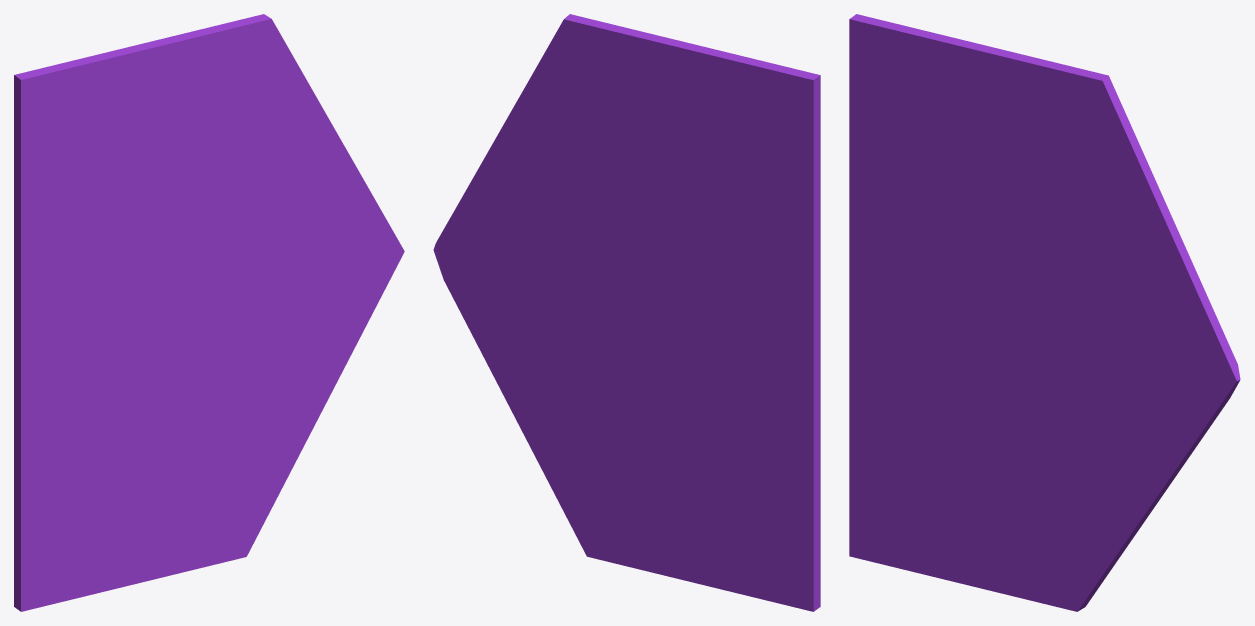
The model's file is Glass_95_2_chunks.fbx.
The picture shows the model from 3 angles, left to right: view 1: azimuth 30°, elevation 25°; view 2: azimuth 150°, elevation 25°; view 3: azimuth 330°, elevation 25°; orthographic projection.
Visible parts, largest first — view 1: Glass_95_2_2, Glass_95_2_3, Glass_95_2_8, Glass_95_2_10, Glass_95_2_18, Glass_95_2_1, Glass_95_2_9, Glass_95_2_7, Glass_95_2_6, Glass_95_2_12, Glass_95_2_11, Glass_95_2_16 (+6 smaller); view 2: Glass_95_2_2, Glass_95_2_3, Glass_95_2_8, Glass_95_2_10, Glass_95_2_1, Glass_95_2_18, Glass_95_2_9, Glass_95_2_13, Glass_95_2_0, Glass_95_2_11, Glass_95_2_16, Glass_95_2_6 (+6 smaller); view 3: Glass_95_2_2, Glass_95_2_3, Glass_95_2_8, Glass_95_2_10, Glass_95_2_18, Glass_95_2_1, Glass_95_2_9, Glass_95_2_7, Glass_95_2_12, Glass_95_2_6, Glass_95_2_11, Glass_95_2_16 (+6 smaller).
Boxes of the visible parts, bbox=[...] form: Glass_95_2_2: bbox=[14, 403, 215, 611]; Glass_95_2_3: bbox=[14, 224, 161, 449]; Glass_95_2_8: bbox=[14, 65, 186, 270]; Glass_95_2_10: bbox=[186, 67, 357, 251]; Glass_95_2_18: bbox=[53, 21, 243, 120]; Glass_95_2_1: bbox=[146, 278, 218, 427]; Glass_95_2_9: bbox=[138, 191, 275, 296]; Glass_95_2_7: bbox=[217, 286, 310, 436]; Glass_95_2_6: bbox=[211, 436, 308, 565]; Glass_95_2_12: bbox=[304, 251, 404, 432]; Glass_95_2_11: bbox=[295, 169, 404, 284]; Glass_95_2_16: bbox=[213, 14, 298, 136]; Glass_95_2_2: bbox=[605, 409, 820, 611]; Glass_95_2_3: bbox=[679, 228, 820, 444]; Glass_95_2_8: bbox=[654, 63, 820, 264]; Glass_95_2_10: bbox=[480, 79, 633, 233]; Glass_95_2_1: bbox=[603, 272, 693, 438]; Glass_95_2_18: bbox=[592, 21, 774, 124]; Glass_95_2_9: bbox=[549, 177, 702, 294]; Glass_95_2_13: bbox=[509, 286, 602, 472]; Glass_95_2_0: bbox=[688, 393, 820, 546]; Glass_95_2_11: bbox=[433, 165, 549, 291]; Glass_95_2_16: bbox=[530, 14, 631, 149]; Glass_95_2_6: bbox=[543, 441, 608, 561]; Glass_95_2_2: bbox=[849, 407, 1045, 603]; Glass_95_2_3: bbox=[849, 174, 991, 414]; Glass_95_2_8: bbox=[849, 14, 1016, 269]; Glass_95_2_10: bbox=[1016, 143, 1192, 317]; Glass_95_2_18: bbox=[896, 23, 1079, 128]; Glass_95_2_1: bbox=[976, 289, 1049, 465]; Glass_95_2_9: bbox=[968, 213, 1106, 335]; Glass_95_2_7: bbox=[1047, 335, 1141, 520]; Glass_95_2_12: bbox=[1135, 375, 1238, 523]; Glass_95_2_6: bbox=[1042, 490, 1140, 611]; Glass_95_2_11: bbox=[1126, 264, 1240, 381]; Glass_95_2_16: bbox=[1043, 68, 1142, 177].
Bounding box in the file's own units: 864 × 1144 × 27.2.
